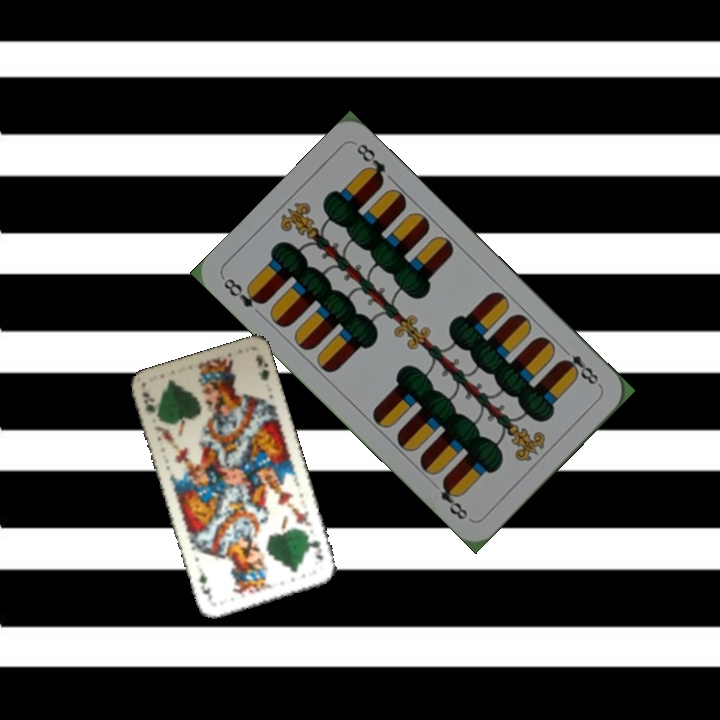E8: (556, 343, 604, 390), (219, 274, 268, 311)
GK: (303, 531, 326, 563), (138, 388, 158, 416)
